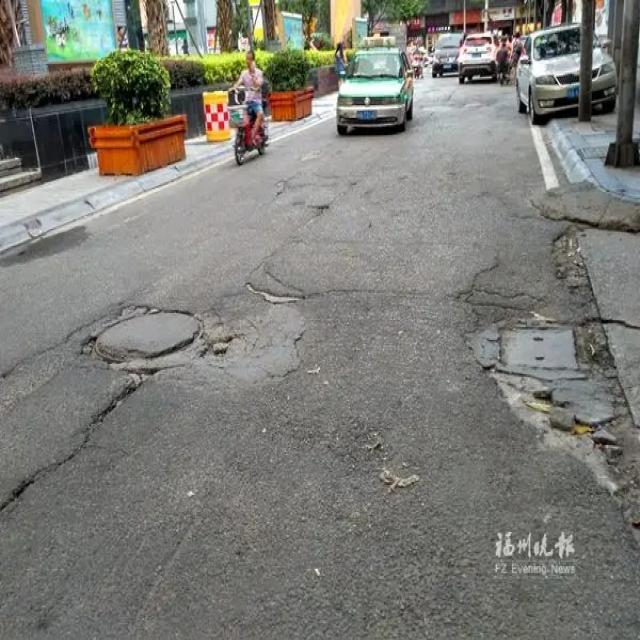Pothole: (468, 311, 634, 488), (81, 298, 313, 386), (543, 222, 607, 290), (294, 196, 342, 226)
